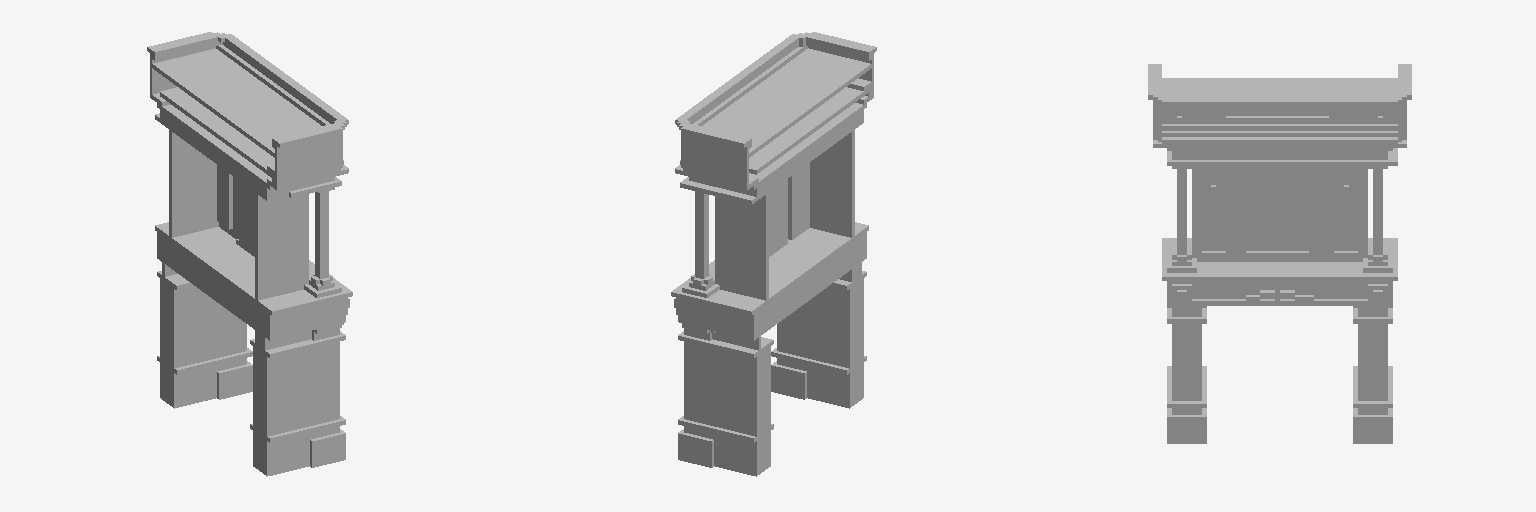
The model's file is Cheminée.obj.
3 renders of one model, left to right at view 1: azimuth 30°, elevation 25°; view 2: azimuth 150°, elevation 25°; view 3: azimuth 270°, elevation 25°, orthographic.
Parts seen in each view (by area): view 1: object 1; view 2: object 1; view 3: object 1.
Part boxes in pixels (x1,y1,x2,y2): object 1: (147, 32, 352, 476); object 1: (671, 32, 876, 476); object 1: (1148, 64, 1411, 443).
Bounding box in the file's own units: 2 × 7.7 × 5.4.